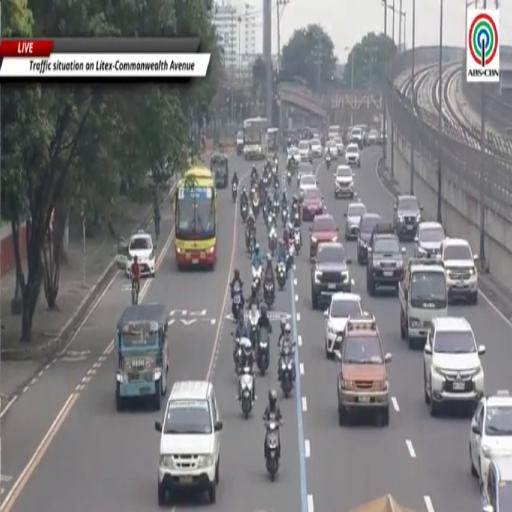bus: (175, 167, 217, 269), (243, 118, 270, 159), (328, 125, 341, 139)
car: (155, 381, 222, 505), (336, 317, 391, 426), (424, 317, 485, 415), (470, 391, 511, 483), (367, 224, 405, 296), (311, 242, 351, 309), (324, 292, 363, 358), (439, 238, 477, 305), (482, 454, 511, 511), (126, 230, 155, 277), (310, 215, 338, 260), (357, 213, 381, 264), (394, 196, 422, 239), (415, 221, 445, 258), (345, 202, 366, 239), (301, 188, 324, 220), (334, 165, 354, 198), (299, 174, 317, 197), (297, 163, 315, 186), (345, 143, 360, 167), (298, 140, 312, 163), (350, 127, 363, 149), (357, 124, 369, 147), (325, 140, 338, 159), (310, 138, 322, 157), (333, 136, 344, 155), (236, 130, 244, 156), (287, 147, 299, 163), (368, 130, 378, 145)
jeepney: (116, 304, 169, 410), (211, 152, 229, 188), (267, 127, 278, 155)
motorcycle: (265, 418, 279, 481), (279, 344, 295, 397), (239, 366, 254, 419), (256, 328, 269, 375), (248, 306, 260, 348), (233, 333, 242, 375), (232, 290, 243, 323), (268, 224, 277, 257), (264, 281, 275, 308), (276, 261, 286, 290), (252, 265, 262, 291), (286, 244, 294, 270), (246, 229, 254, 254), (293, 228, 301, 253), (252, 195, 260, 218), (240, 202, 248, 222), (232, 183, 238, 202), (293, 211, 301, 225), (282, 207, 288, 225), (251, 171, 258, 185), (273, 199, 280, 213), (263, 173, 269, 187), (325, 154, 330, 169), (287, 170, 291, 185)
truck: (399, 259, 447, 348)
